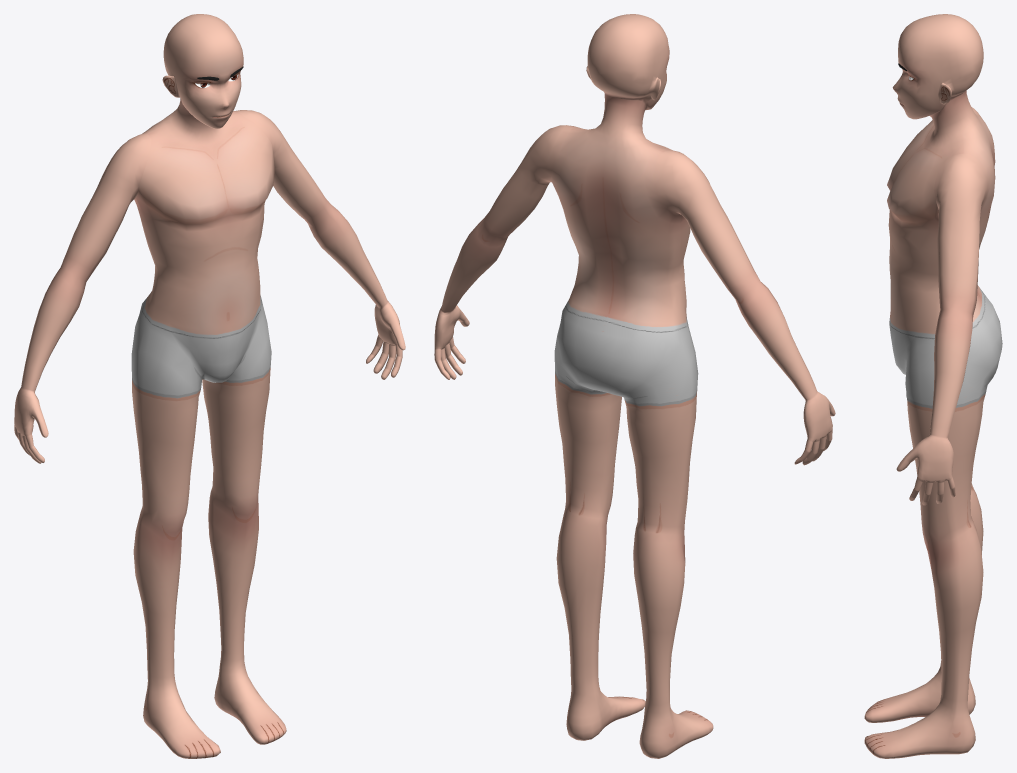
Rendered from malebase_low.fbx.
3 views of the same model, side by side, from view 1: azimuth 30°, elevation 25°; view 2: azimuth 150°, elevation 25°; view 3: azimuth 270°, elevation 25° (orthographic). The views are drawn at different scales.
Parts seen in each view (by area): view 1: body_low; view 2: body_low; view 3: body_low.
Part boxes in pixels (x1,y1,x2,y2): body_low: (14, 14, 405, 758); body_low: (434, 14, 835, 758); body_low: (864, 14, 1002, 758).
Bounding box in the file's own units: 102 × 183 × 31.87.
Materials: 3 (2 with a texture image).
